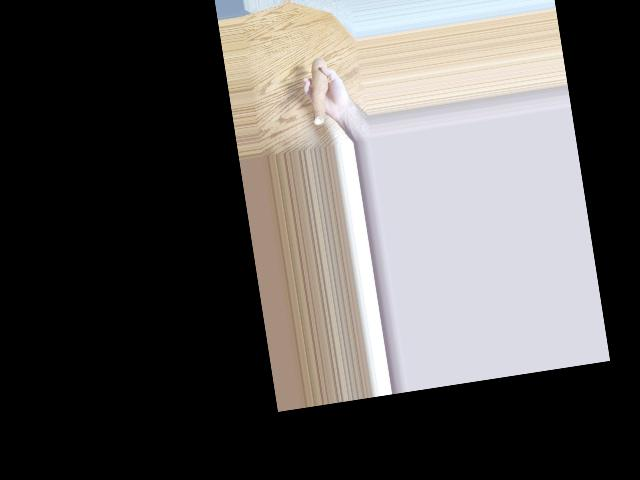sweet_potato: (306, 58, 335, 123)
